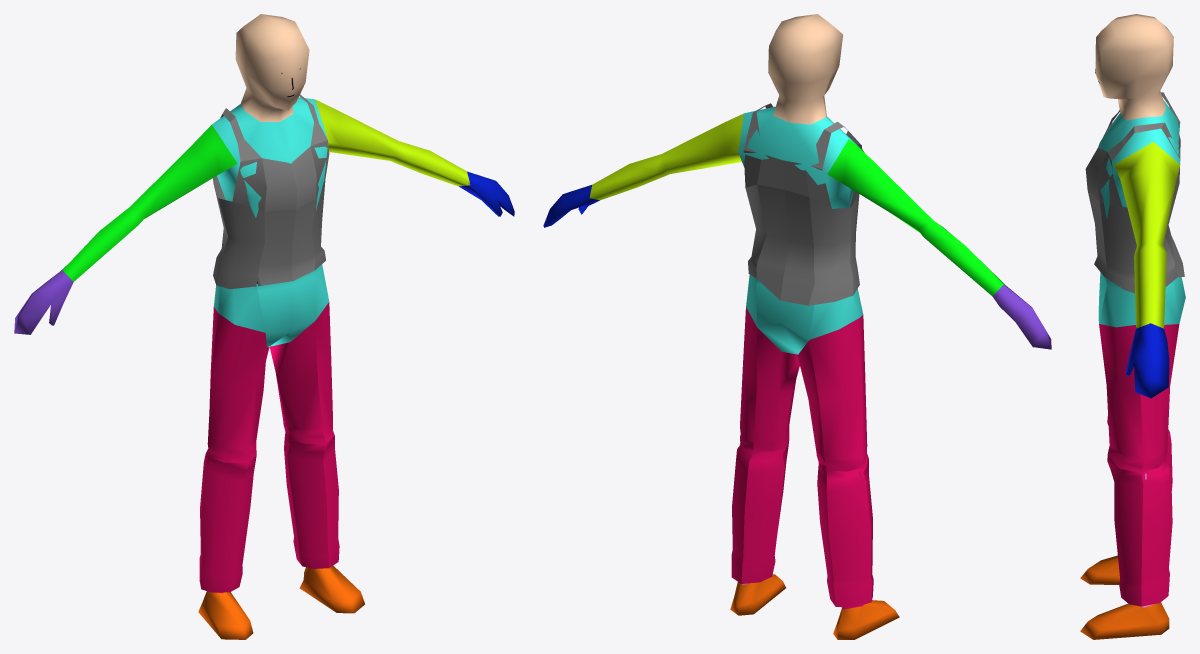
Rendered from Tamara.obj.
The picture shows the model from 3 angles, left to right: view 1: azimuth 30°, elevation 25°; view 2: azimuth 150°, elevation 25°; view 3: azimuth 270°, elevation 25°; orthographic projection.
Parts seen in each view (by area): view 1: pasted__pasted__HumanoidBase_NotOverlapping pasted__group group, HumanoidBase_NotOverlapping, pCylinder1; view 2: pasted__pasted__HumanoidBase_NotOverlapping pasted__group group, HumanoidBase_NotOverlapping, pCylinder1; view 3: HumanoidBase_NotOverlapping, pasted__pasted__HumanoidBase_NotOverlapping pasted__group group, pCylinder1.
Part boxes in pixels (<box>): pasted__pasted__HumanoidBase_NotOverlapping pasted__group group: <box>199,264,339,592</box>; HumanoidBase_NotOverlapping: <box>14,14,514,639</box>; pCylinder1: <box>213,94,329,289</box>; pasted__pasted__HumanoidBase_NotOverlapping pasted__group group: <box>731,275,873,607</box>; HumanoidBase_NotOverlapping: <box>543,14,1051,639</box>; pCylinder1: <box>743,103,862,305</box>; HumanoidBase_NotOverlapping: <box>1080,14,1180,639</box>; pasted__pasted__HumanoidBase_NotOverlapping pasted__group group: <box>1098,272,1185,606</box>; pCylinder1: <box>1085,92,1184,293</box>.
Bounding box in the file's own units: 149 × 167 × 27.31.
Materials: 3 (2 with a texture image).
